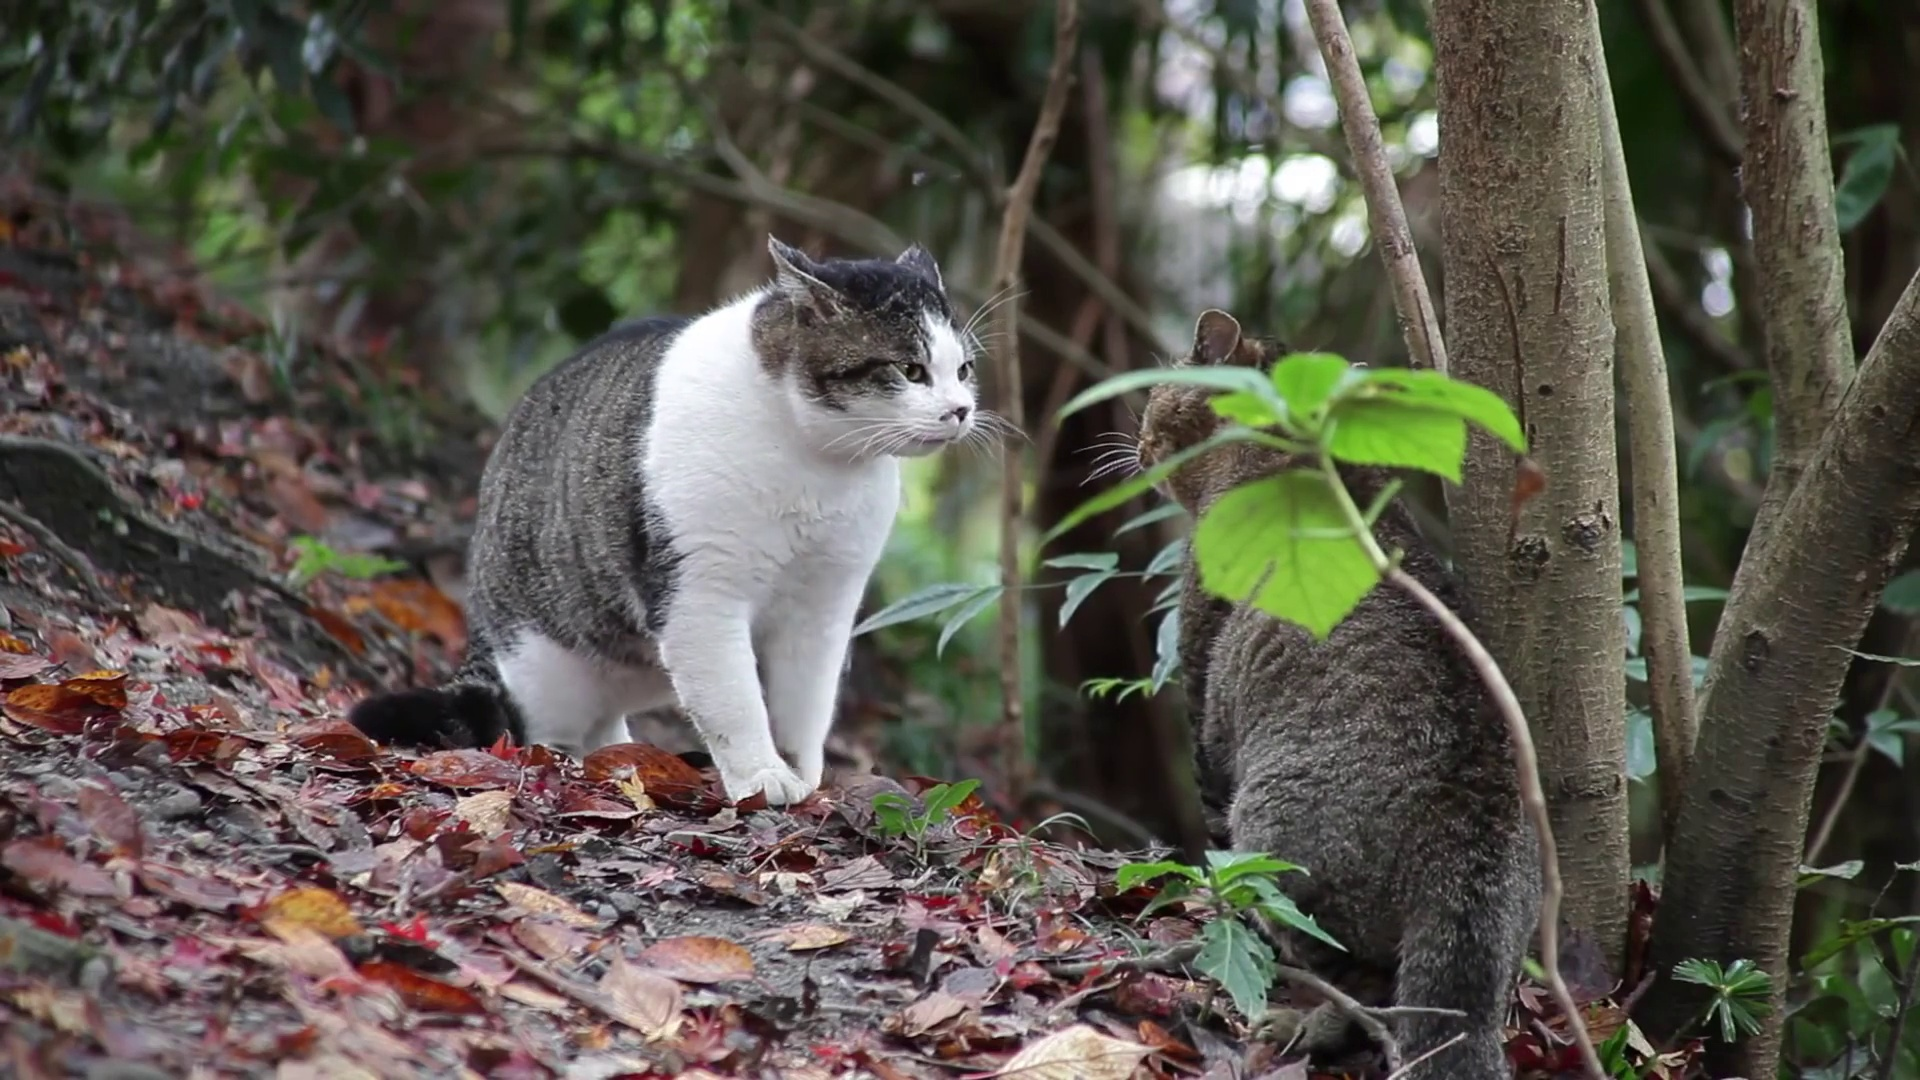black-white: (348, 233, 978, 812)
pure black: (1133, 307, 1542, 1080)
